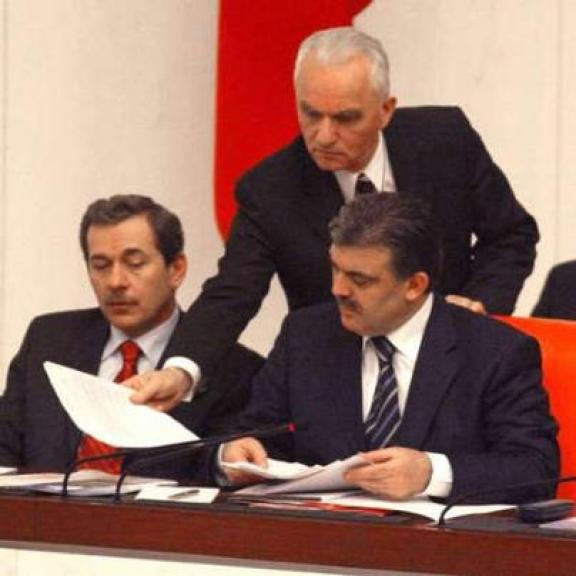face: (84, 227, 194, 332), (298, 64, 400, 174), (323, 234, 431, 336)
